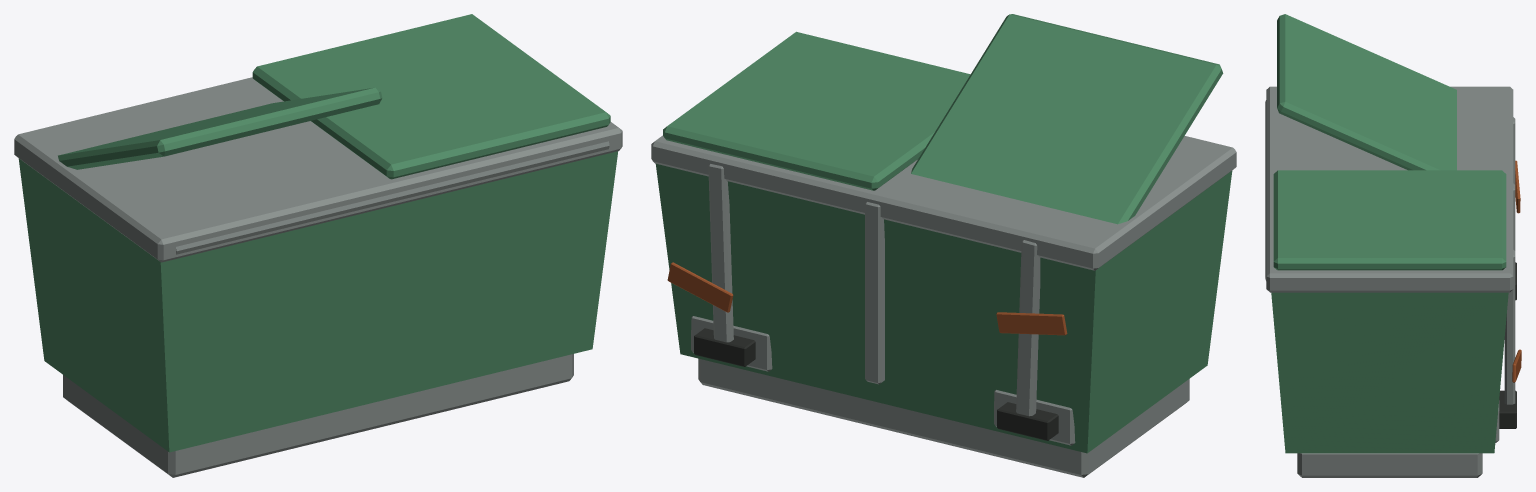
The model's file is dumpster.glb.
3 views of the same model, side by side, from view 1: azimuth 30°, elevation 25°; view 2: azimuth 150°, elevation 25°; view 3: azimuth 270°, elevation 25° (orthographic). The views are drawn at different scales.
Parts seen in each view (by area): view 1: dumpster; view 2: dumpster; view 3: dumpster.
Part boxes in pixels (x1,y1,x2,y2): dumpster: (14,14,622,477); dumpster: (651,14,1236,477); dumpster: (1265,14,1521,477).
Size of the model in its own units: 1.89 by 1.36 by 1.08.
